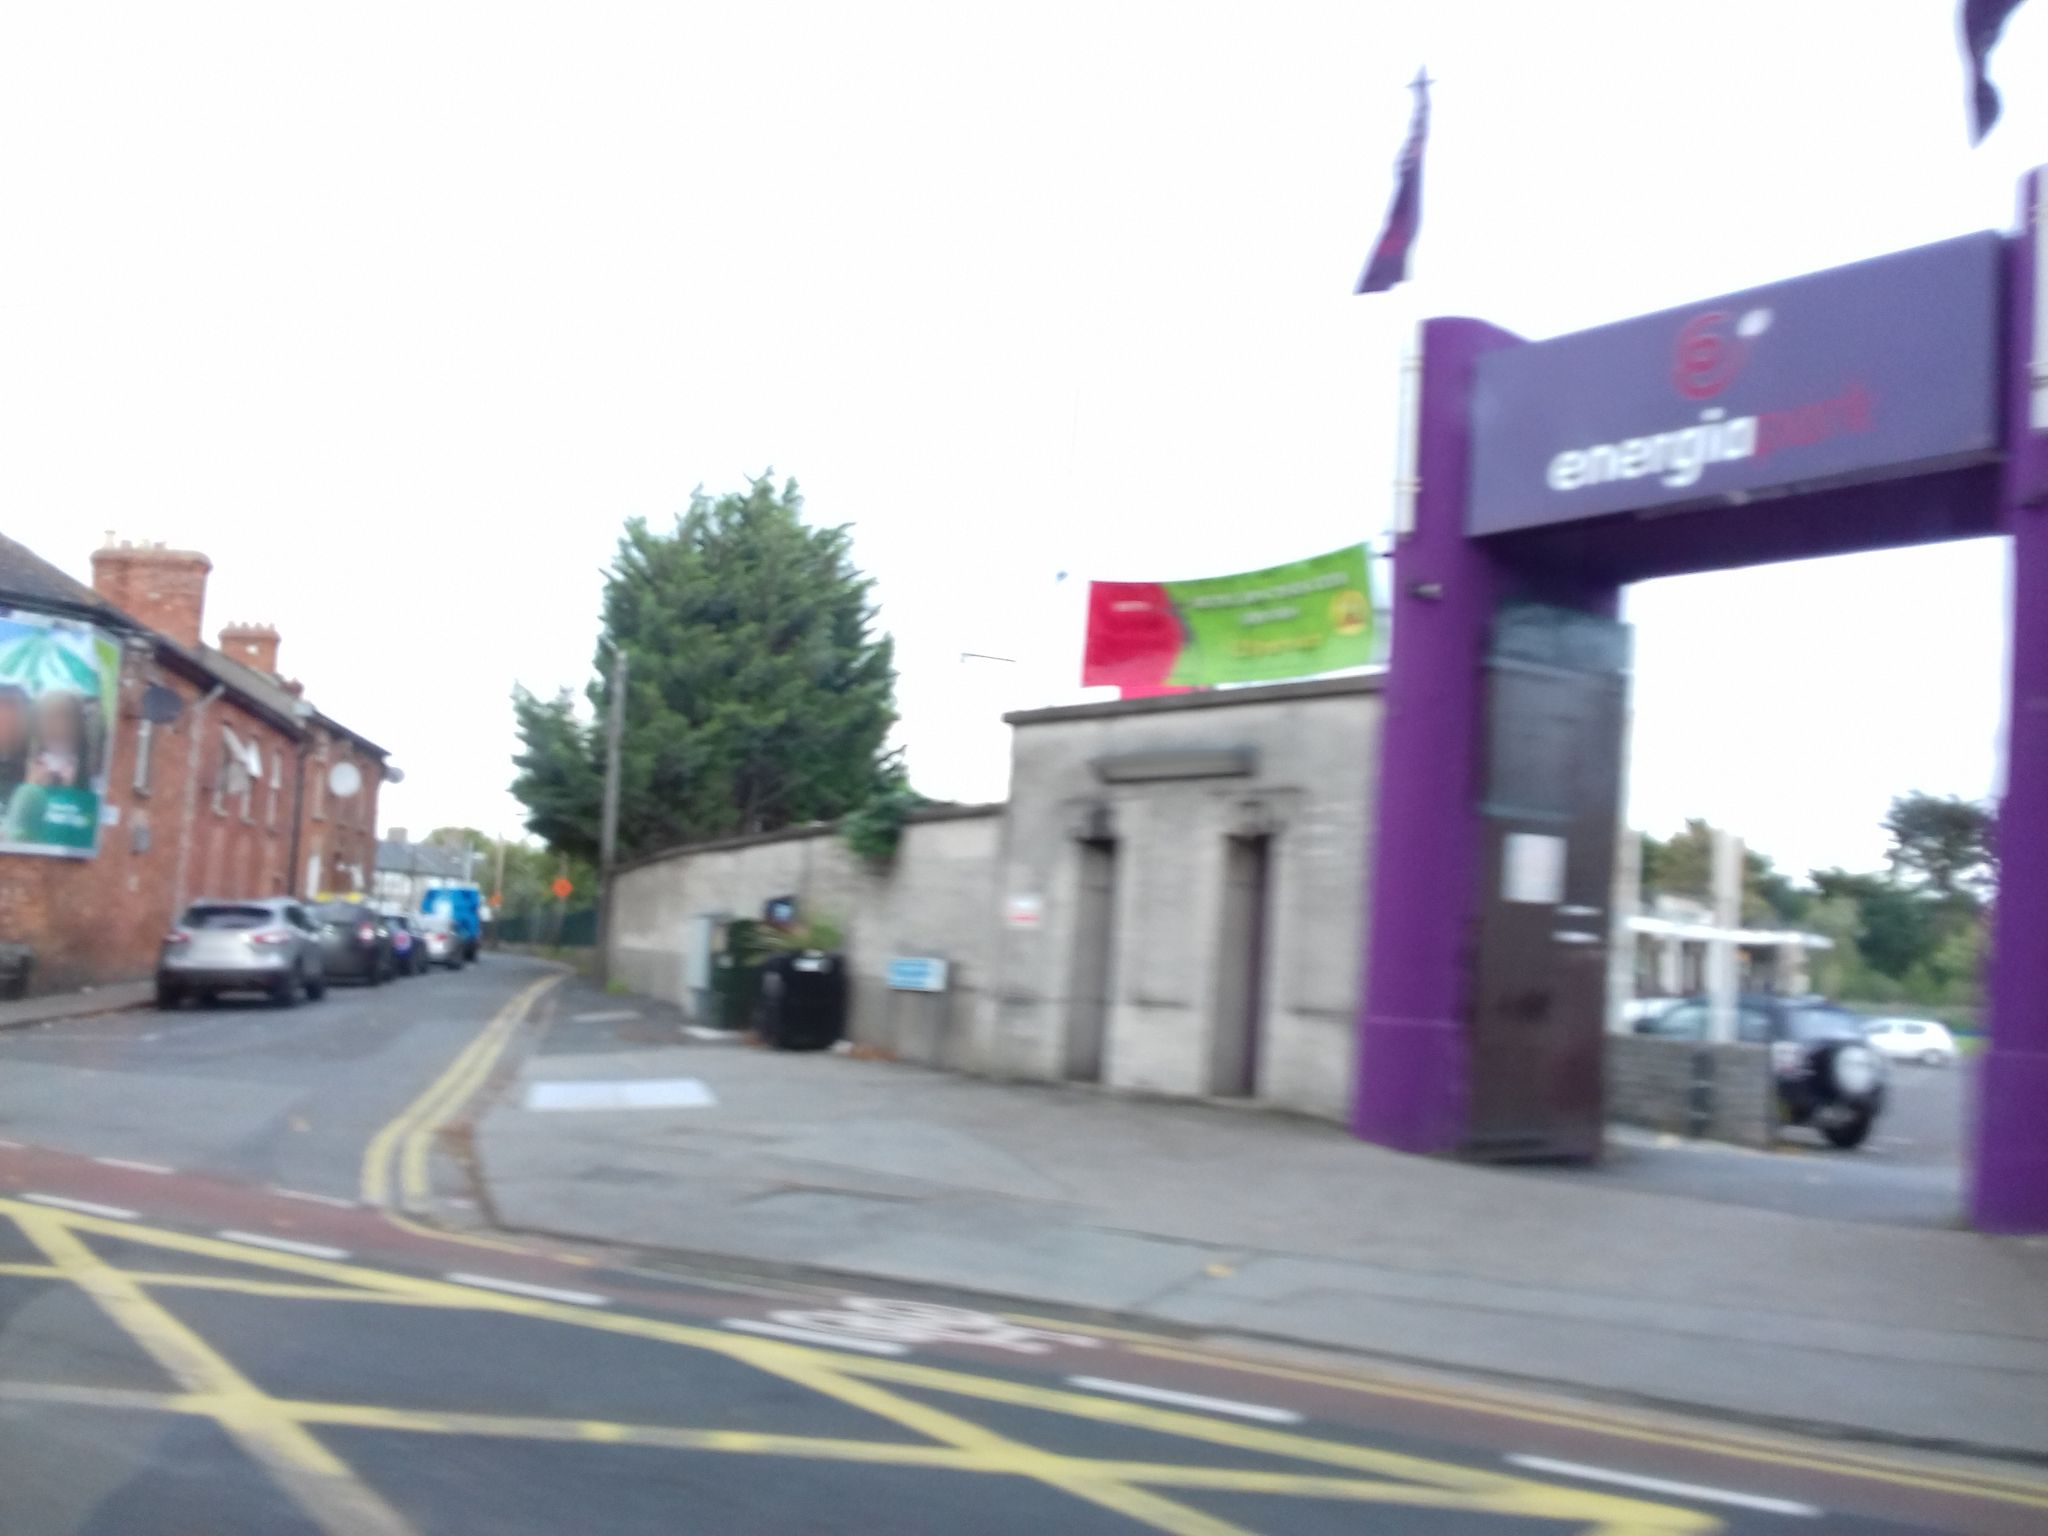vinyl banner: (1059, 534, 1409, 684)
